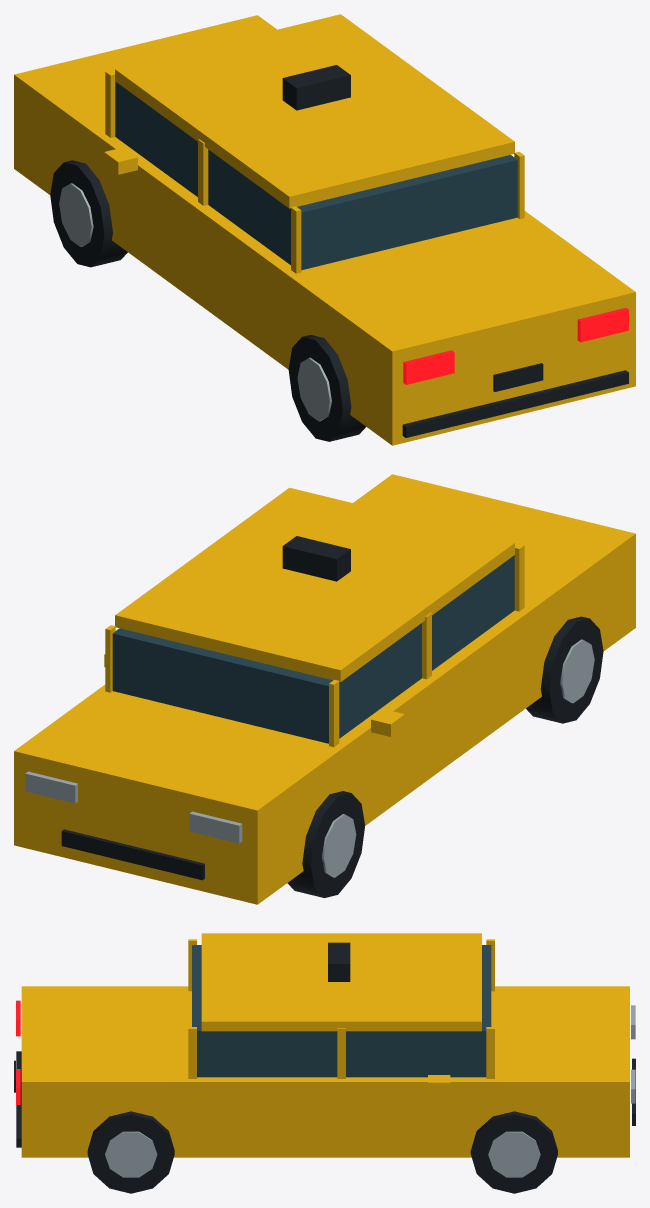
The model's file is traffic-taxi.glb.
The picture shows the model from 3 angles, top to bottom: view 1: azimuth 30°, elevation 25°; view 2: azimuth 150°, elevation 25°; view 3: azimuth 270°, elevation 25°; orthographic projection. The views are drawn at different scales.
Parts seen in each view (by area): view 1: lod_body, lod_glass, lod_dark, lod_metal, brake_lights; view 2: lod_body, lod_glass, lod_dark, lod_metal; view 3: lod_body, lod_glass, lod_dark, lod_metal.
Boxes of the visible parts, x1=… form: lod_body: x1=14, y1=14, x2=635, y2=445; lod_glass: x1=115, y1=81, x2=517, y2=270; lod_dark: x1=50, y1=65, x2=628, y2=441; lod_metal: x1=59, y1=183, x2=331, y2=421; brake_lights: x1=403, y1=308, x2=628, y2=384; lod_body: x1=14, y1=474, x2=635, y2=904; lod_glass: x1=112, y1=555, x2=514, y2=743; lod_dark: x1=61, y1=536, x2=603, y2=897; lod_metal: x1=25, y1=639, x2=594, y2=877; lod_body: x1=21, y1=933, x2=629, y2=1157; lod_glass: x1=192, y1=945, x2=491, y2=1077; lod_dark: x1=14, y1=942, x2=635, y2=1193; lod_metal: x1=105, y1=1005, x2=635, y2=1177.
Size of the model in its own units: 2.01 by 1.58 by 4.7.
